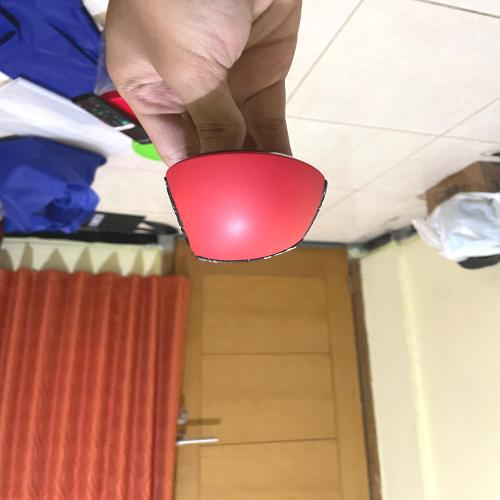Mouse: (159, 142, 349, 270)
